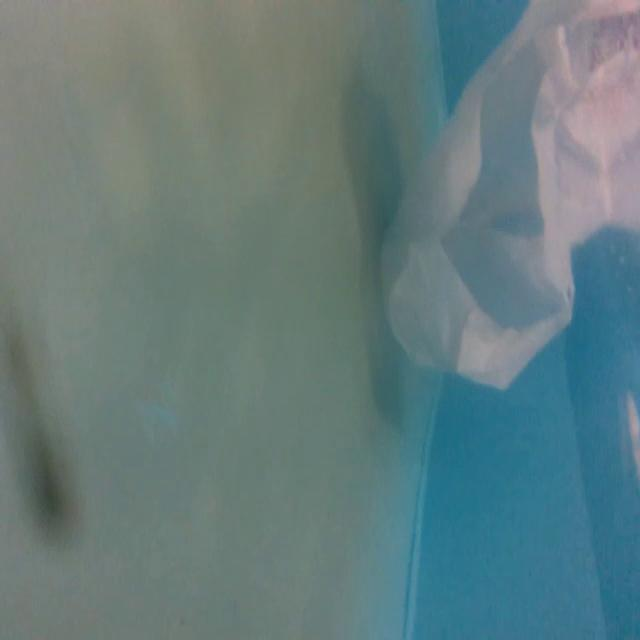plastic bags: (373, 2, 640, 398)
